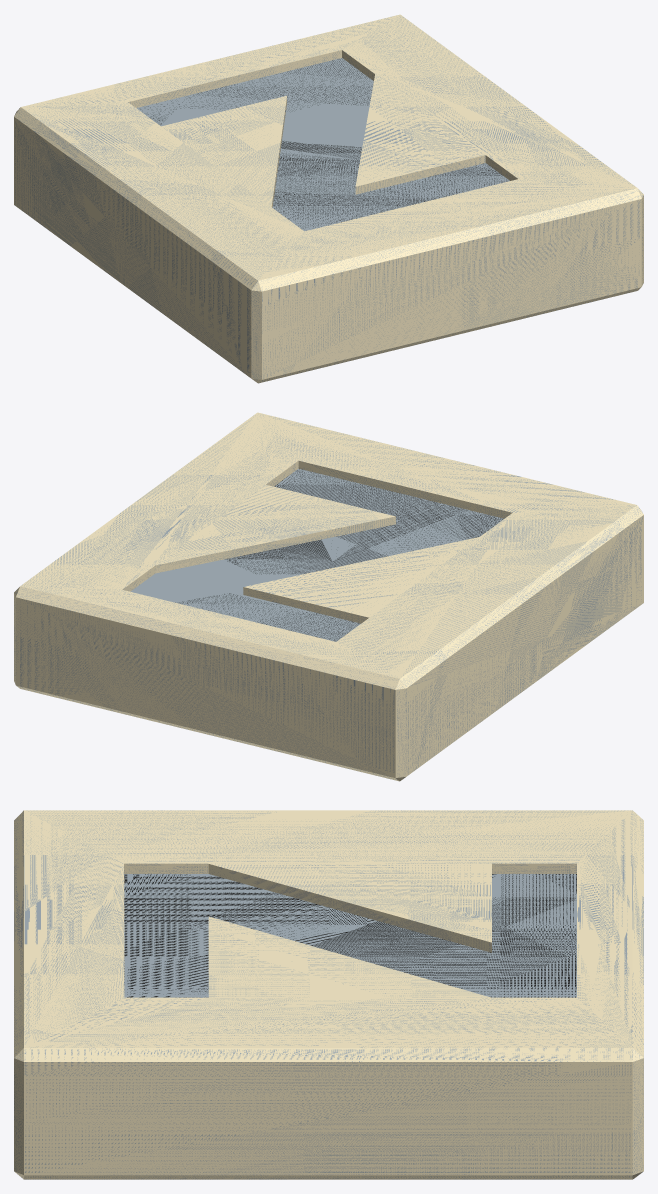
File: Boardgame_Anagram_Tile_Z.fbx
The picture shows the model from 3 angles, top to bottom: view 1: azimuth 30°, elevation 25°; view 2: azimuth 150°, elevation 25°; view 3: azimuth 270°, elevation 25°; orthographic projection. The views are drawn at different scales.
Parts seen in each view (by area): view 1: Model; view 2: Model; view 3: Model.
Part boxes in pixels (bbox=[...]): Model: bbox=[14, 14, 643, 383]; Model: bbox=[14, 412, 643, 781]; Model: bbox=[14, 810, 643, 1179].
Size of the model in its own units: 195 by 48.83 by 212.
